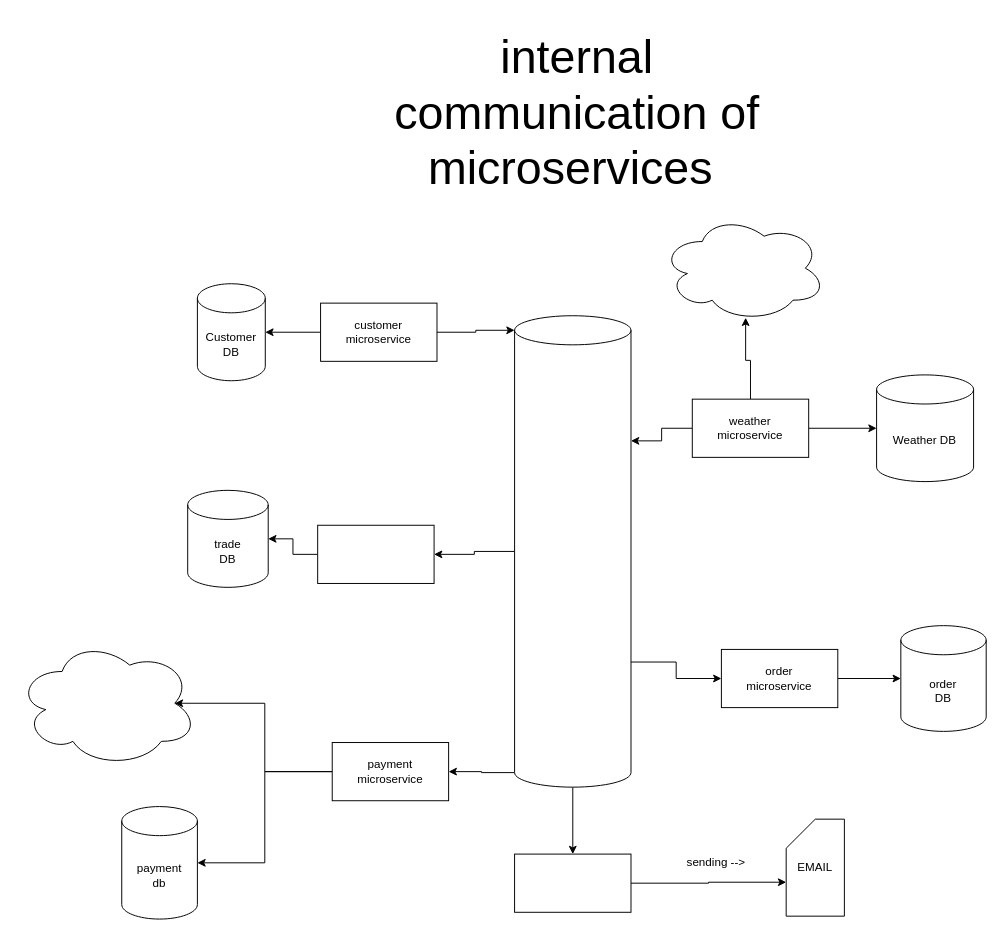
This 1004x936 diagram has some shape labels left out. Here are the shapes that lost their labels. From the top down, the box of each, then its label:
(660, 214, 826, 322): external weatherAPI
(317, 524, 434, 583): trade microservice
(514, 315, 631, 787): Message Broker (Apache Kafka, RabbitMQ
(16, 639, 197, 767): Przelewy24 PAYU
(514, 853, 631, 912): notification microservice
